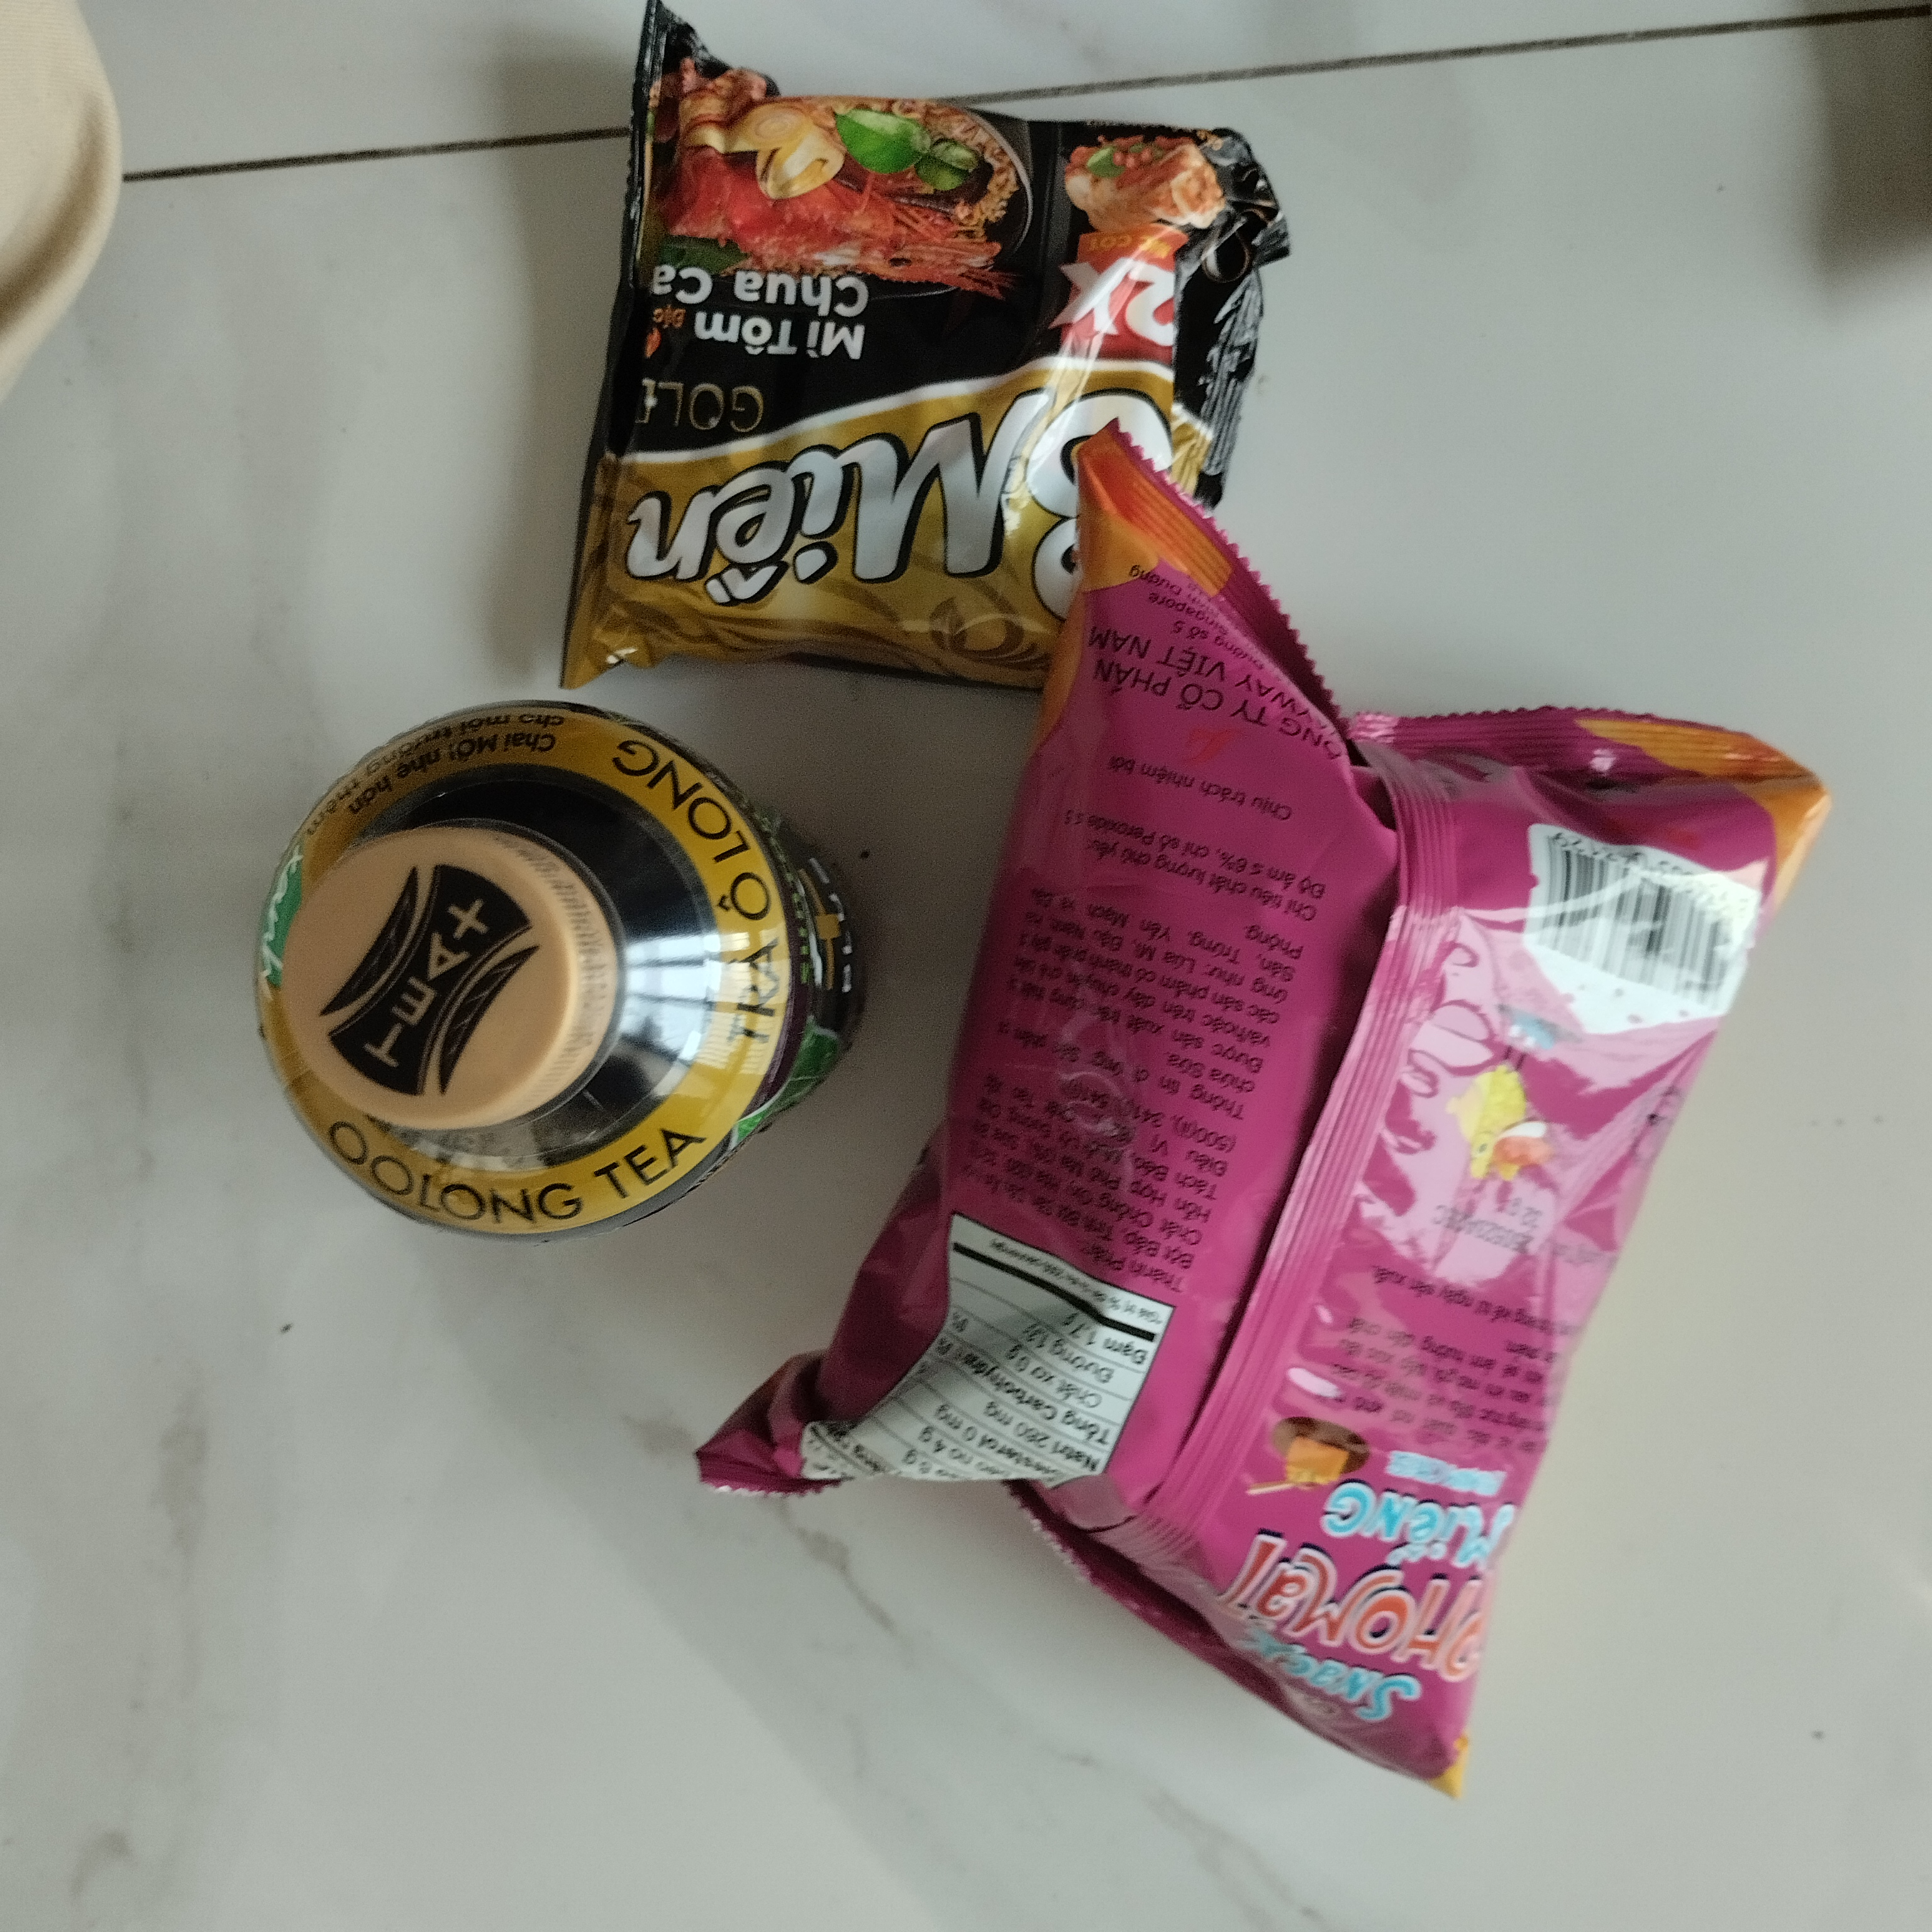3mien: (552, 4, 1290, 732)
Oishi_phomat: (694, 421, 1836, 1796)
Olong: (248, 690, 876, 1253)
